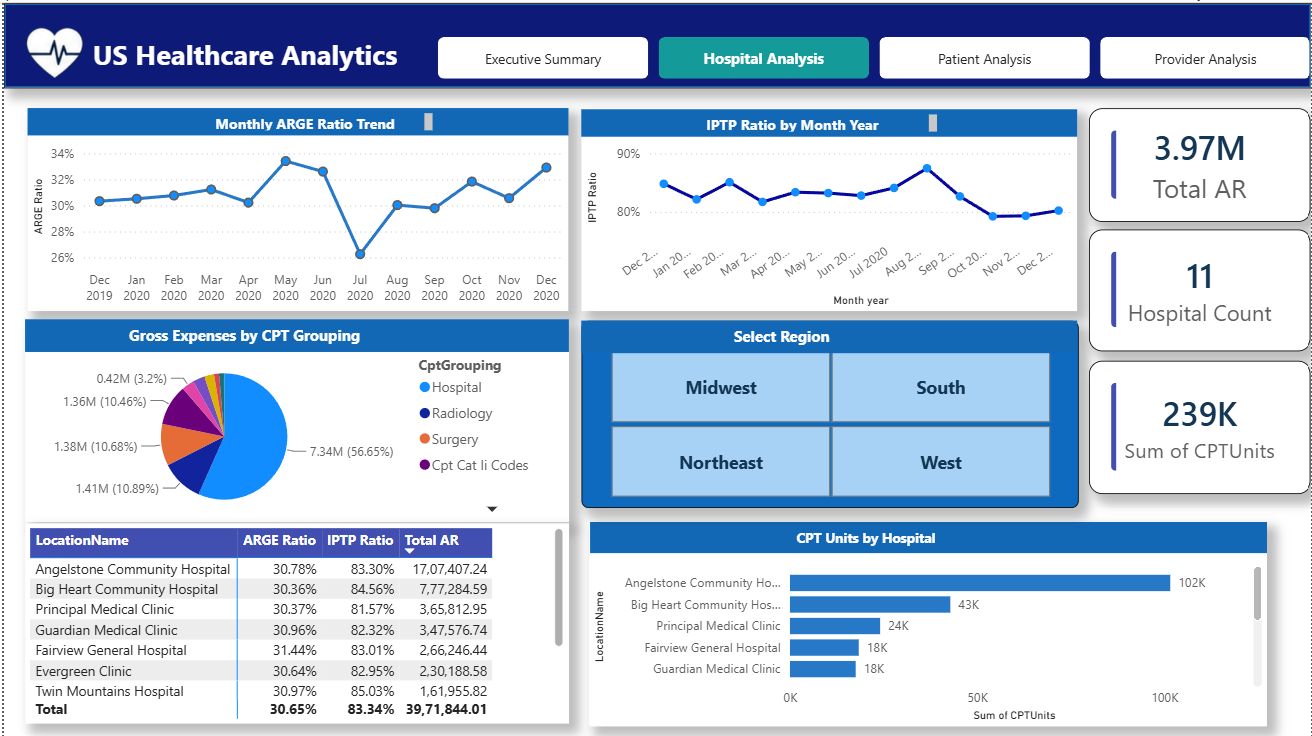

The dashboard page shown, as its layout file describes it:
{"tool":"powerbi","page":{"name":"Hospital Analysis","canvas":[1280,720],"ordinal":1},"visuals":[{"type":"lineChart","title":"\tARGE Ratio Trend","fields":{"Y":["FactTable.ARGE Ratio"],"Category":["DimDate.Month year"]},"box":[22.8,103.8,529.1,198.7],"z":0},{"type":"lineChart","fields":{"Y":["FactTable.IPTP Ratio"],"Category":["DimDate.Month year"]},"box":[564.6,103.8,484.8,198.7],"z":1000},{"type":"pieChart","fields":{"Category":["DimCptCode.CptGrouping"],"Y":["Sum(FactTable.Gross Expenses)"]},"box":[20.3,310.1,531.6,198.7],"z":2000},{"type":"clusteredBarChart","fields":{"Y":["Sum(FactTable.CPTUnits)"],"Category":["DimHospital.LocationName"]},"box":[572.2,508.9,663.3,200],"z":3000},{"type":"pivotTable","fields":{"Rows":["DimHospital.LocationName"],"Values":["FactTable.ARGE Ratio","FactTable.IPTP Ratio","AdjustmentFactor(%).Total AR"]},"box":[20.3,510.1,531.6,196.2],"z":4000},{"type":"shape","box":[0,1.2,1280,83.2],"z":5000},{"type":"textbox","box":[82.3,27.8,411.4,48.1],"z":6000},{"type":"pageNavigator","box":[424.1,34.2,857,41.8],"z":7000},{"type":"shape","box":[22.8,103.8,529.1,26.6],"z":8000},{"type":"textbox","box":[173.4,103.8,250.6,26.6],"z":9000},{"type":"shape","box":[564.6,105.1,484.8,26.6],"z":10000},{"type":"textbox","box":[682.3,105.1,235.4,26.6],"z":11000},{"type":"shape","box":[20.3,310.1,531.6,31.6],"z":12000},{"type":"textbox","box":[117.7,310.1,382.3,181],"z":13000},{"type":"shape","box":[573.4,508.9,662,30.4],"z":14000},{"type":"textbox","box":[770.9,510.1,205.1,198.7],"z":15000},{"type":"slicer","fields":{"Values":["DimPatient.Region"]},"box":[564.6,311.4,486.1,183.5],"z":16000},{"type":"shape","box":[564.6,311.4,484.8,31.6],"z":17000},{"type":"textbox","box":[708.9,311.4,300,44.3],"z":18000},{"type":"cardVisual","fields":{"Data":["AdjustmentFactor(%).Total AR"]},"box":[1062,103.8,217.7,111.4],"z":19000},{"type":"cardVisual","fields":{"Data":["FactTable.Hospital Count"]},"box":[1062,222.8,217.7,119],"z":20000},{"type":"cardVisual","fields":{"Data":["Sum(FactTable.CPTUnits)"]},"box":[1062,350.6,217.7,130.4],"z":21000},{"type":"image","box":[0,24.1,97.5,54.4],"z":22000}]}

Visuals, with their boxes in screenshot pixels (x1, y1, x2, y2), scaled from the page's 1280x720 canvas onto the 1312x736 screenshot:
"	ARGE Ratio Trend" lineChart: [x1=23, y1=106, x2=566, y2=309]
lineChart - FactTable.IPTP Ratio x DimDate.Month year: [x1=579, y1=106, x2=1076, y2=309]
pieChart - DimCptCode.CptGrouping x Sum(FactTable.Gross Expenses): [x1=21, y1=317, x2=566, y2=520]
clusteredBarChart - Sum(FactTable.CPTUnits) x DimHospital.LocationName: [x1=587, y1=520, x2=1266, y2=725]
pivotTable - DimHospital.LocationName x FactTable.ARGE Ratio: [x1=21, y1=521, x2=566, y2=722]
shape: [x1=0, y1=1, x2=1311, y2=86]
textbox: [x1=84, y1=28, x2=506, y2=78]
pageNavigator: [x1=435, y1=35, x2=1311, y2=78]
shape: [x1=23, y1=106, x2=566, y2=133]
textbox: [x1=178, y1=106, x2=435, y2=133]
shape: [x1=579, y1=107, x2=1076, y2=135]
textbox: [x1=699, y1=107, x2=941, y2=135]
shape: [x1=21, y1=317, x2=566, y2=349]
textbox: [x1=121, y1=317, x2=512, y2=502]
shape: [x1=588, y1=520, x2=1266, y2=551]
textbox: [x1=790, y1=521, x2=1000, y2=725]
slicer - DimPatient.Region: [x1=579, y1=318, x2=1077, y2=506]
shape: [x1=579, y1=318, x2=1076, y2=351]
textbox: [x1=727, y1=318, x2=1034, y2=364]
cardVisual - AdjustmentFactor(%).Total AR: [x1=1089, y1=106, x2=1311, y2=220]
cardVisual - FactTable.Hospital Count: [x1=1089, y1=228, x2=1311, y2=349]
cardVisual - Sum(FactTable.CPTUnits): [x1=1089, y1=358, x2=1311, y2=492]
image: [x1=0, y1=25, x2=100, y2=80]
